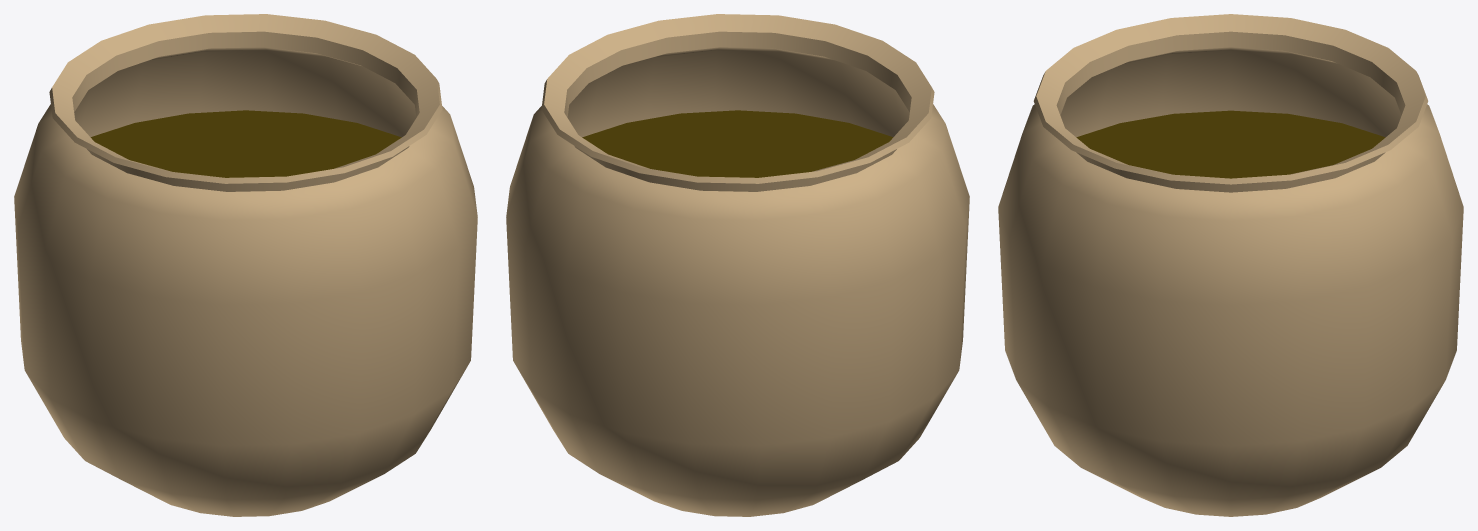
The model's file is PlantPot.glb.
The picture shows the model from 3 angles, left to right: view 1: azimuth 30°, elevation 25°; view 2: azimuth 150°, elevation 25°; view 3: azimuth 270°, elevation 25°; orthographic projection.
Parts seen in each view (by area): view 1: plantpot, dirt; view 2: plantpot, dirt; view 3: plantpot, dirt.
Part boxes in pixels (left/top/right/bottom): plantpot: left=14, top=14, right=477, bottom=516; dirt: left=90, top=110, right=401, bottom=177; plantpot: left=506, top=14, right=969, bottom=516; dirt: left=582, top=110, right=893, bottom=177; plantpot: left=998, top=14, right=1463, bottom=516; dirt: left=1076, top=110, right=1385, bottom=178.
Bounding box in the file's own units: 0.9966 × 0.8821 × 0.9966.
